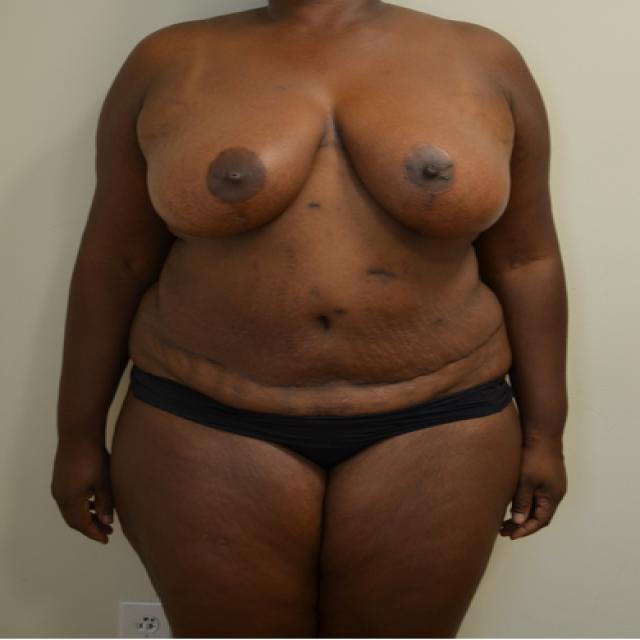Seno herido: (138, 104, 330, 250), (333, 104, 521, 252)
